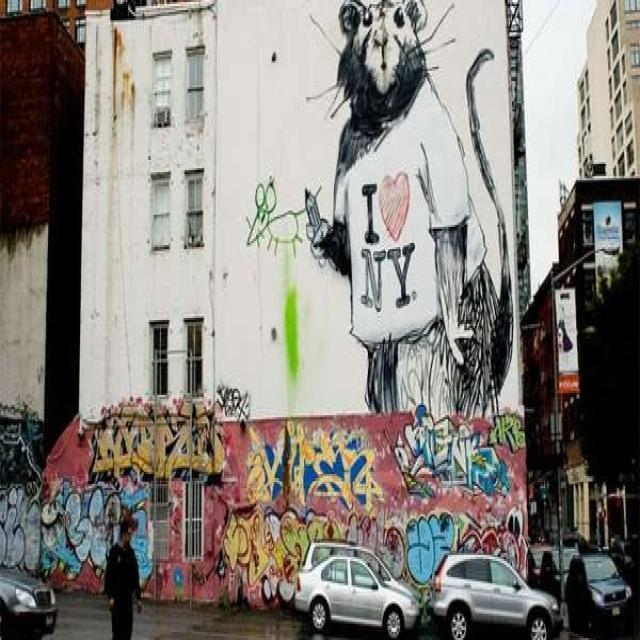-: (242, 0, 513, 413), (41, 476, 155, 594), (88, 396, 226, 484), (390, 406, 512, 502), (250, 423, 383, 511), (220, 503, 340, 598), (461, 510, 524, 576), (346, 514, 400, 584), (0, 483, 39, 578), (406, 506, 450, 588), (489, 412, 526, 459), (219, 384, 253, 422)
